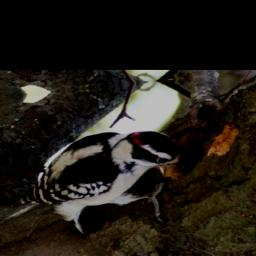Woodpecker: (0, 125, 197, 241)
